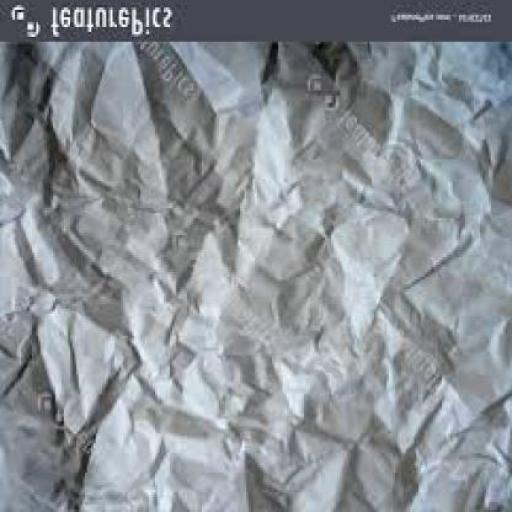paper: (0, 43, 511, 512)
